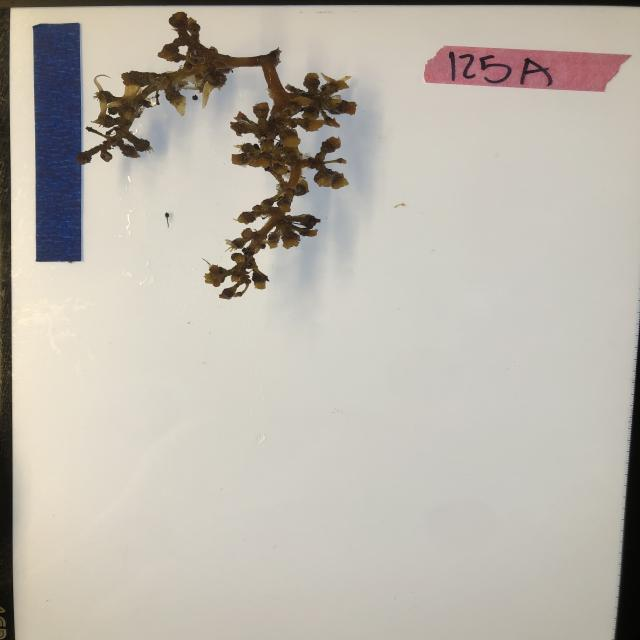index: (423, 45, 630, 94)
measure_label: (31, 19, 86, 265)
rachis_cluster: (80, 10, 358, 301)
